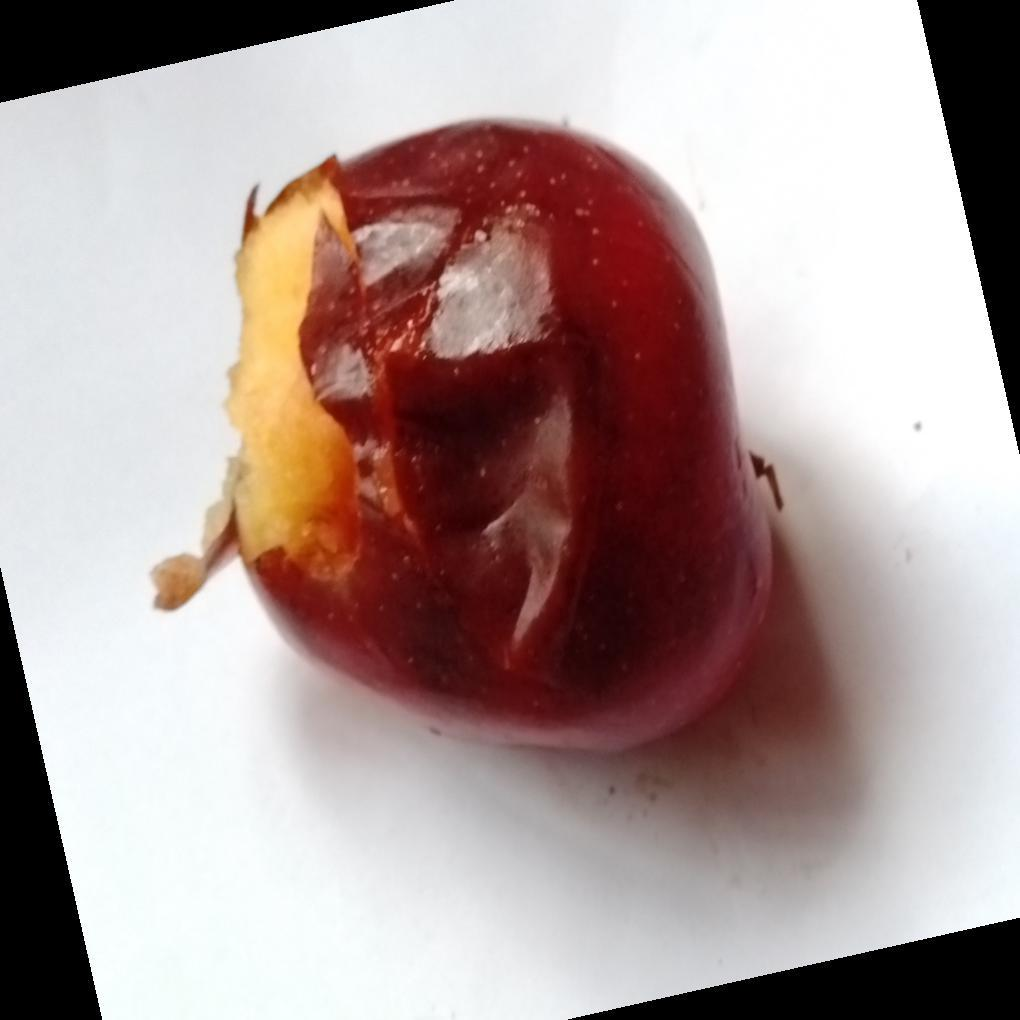FreshOrange: (156, 120, 781, 758)
